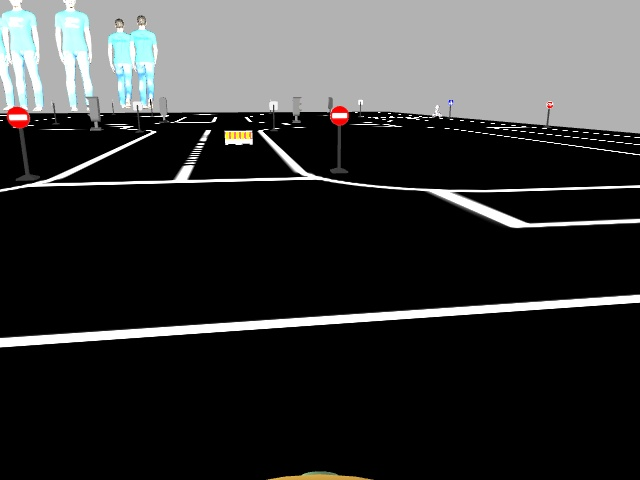ClosedRoadStand: (225, 130, 253, 145)
NoEntry: (7, 106, 32, 130), (331, 107, 347, 127)
